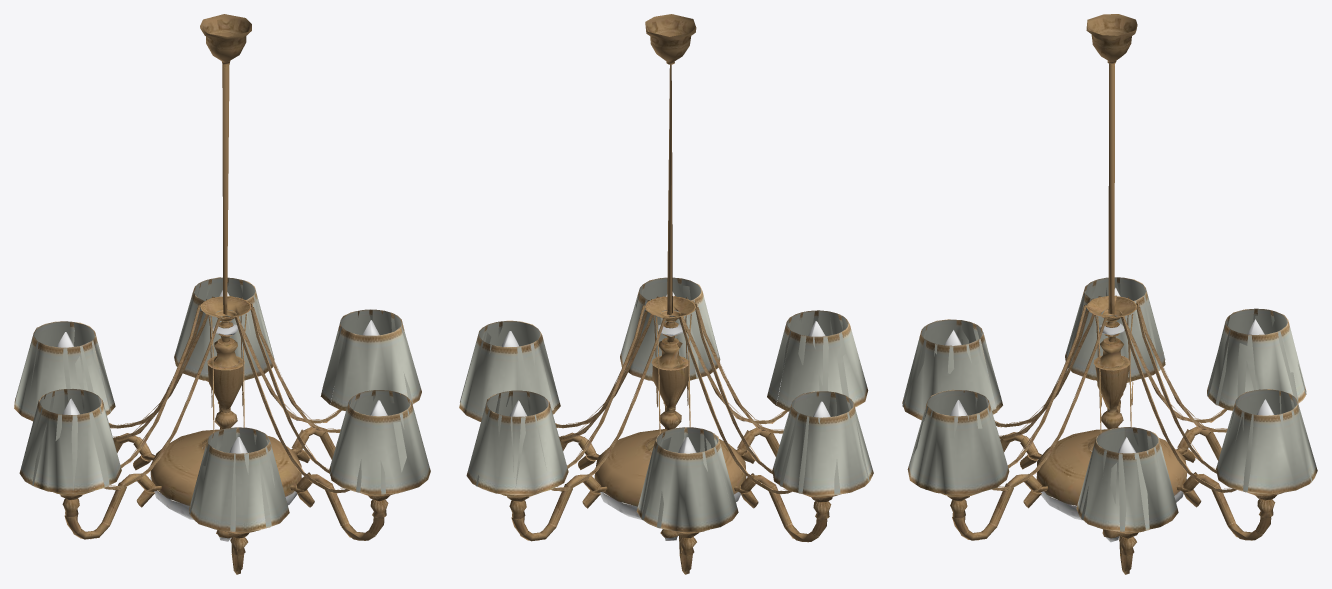
Rendered from Chandelier_02.glb.
The picture shows the model from 3 angles, left to right: view 1: azimuth 30°, elevation 25°; view 2: azimuth 150°, elevation 25°; view 3: azimuth 270°, elevation 25°; orthographic projection.
Parts seen in each view (by area): view 1: Chandelier_02; view 2: Chandelier_02; view 3: Chandelier_02.
Part boxes in pixels (box(x1,y1,x2,y2)): Chandelier_02: box(14, 14, 430, 574); Chandelier_02: box(459, 14, 873, 574); Chandelier_02: box(902, 14, 1317, 574).
Size of the model in its own units: 0.6787 by 0.8488 by 0.6183.
2 materials, 1 textured.
